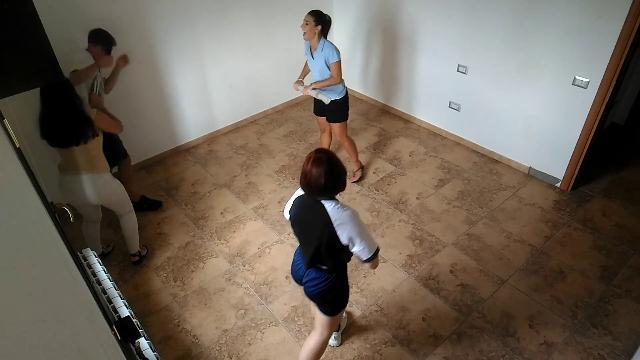non-violence: (282, 146, 382, 358), (291, 8, 367, 185)
violence: (40, 27, 160, 266)
